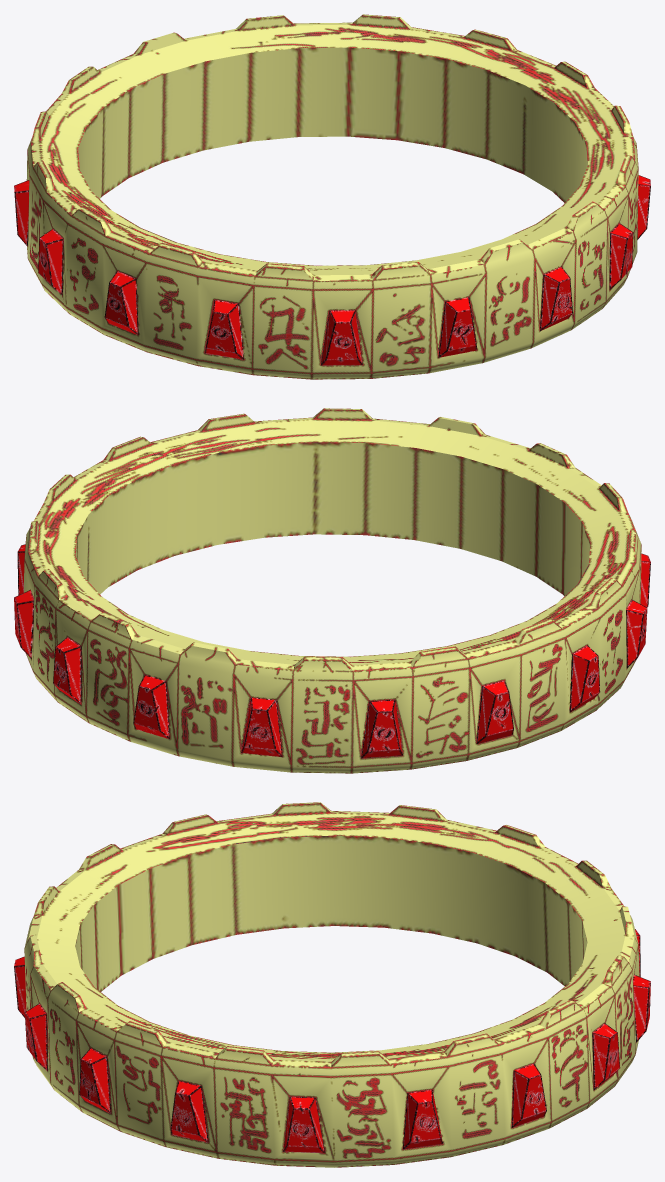
File: free_gold_metal_necklace__bracelet.glb
3 views of the same model, one above another, from view 1: azimuth 30°, elevation 25°; view 2: azimuth 150°, elevation 25°; view 3: azimuth 270°, elevation 25° (orthographic).
Visible parts, largest first — view 1: Necklace_LOW.001; view 2: Necklace_LOW.001; view 3: Necklace_LOW.001.
Boxes of the visible parts, x1,y1,x2,y2 form: Necklace_LOW.001: [14, 14, 650, 379]; Necklace_LOW.001: [14, 408, 650, 773]; Necklace_LOW.001: [14, 802, 650, 1167].
Size of the model in its own units: 0.1078 by 0.0218 by 0.1078.
Materials: 1 (1 with a texture image).
